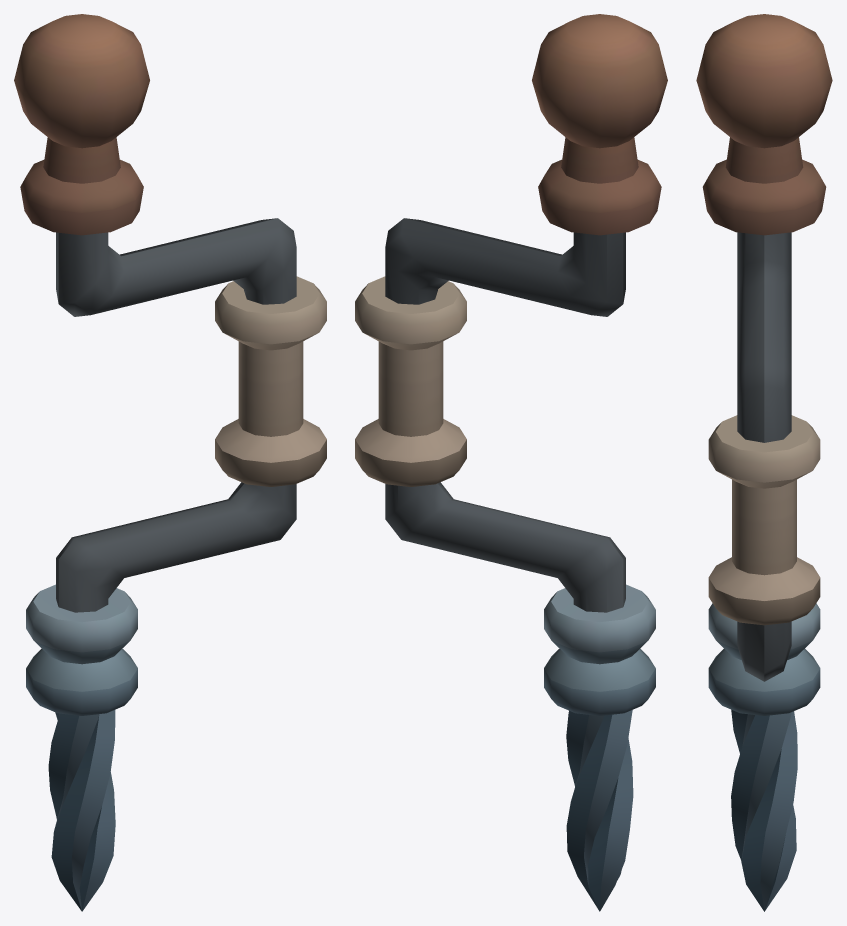
The model's file is borr.glb.
The picture shows the model from 3 angles, left to right: view 1: azimuth 30°, elevation 25°; view 2: azimuth 150°, elevation 25°; view 3: azimuth 270°, elevation 25°; orthographic projection.
Visible parts, largest first — view 1: handdrill; view 2: handdrill; view 3: handdrill.
Boxes of the visible parts, x1,y1,x2,y2 form: handdrill: (14,14,326,911); handdrill: (355,14,667,911); handdrill: (696,14,832,911).
Bounding box in the file's own units: 0.437 × 1.25 × 0.1739.
Materials: 1 (1 with a texture image).
